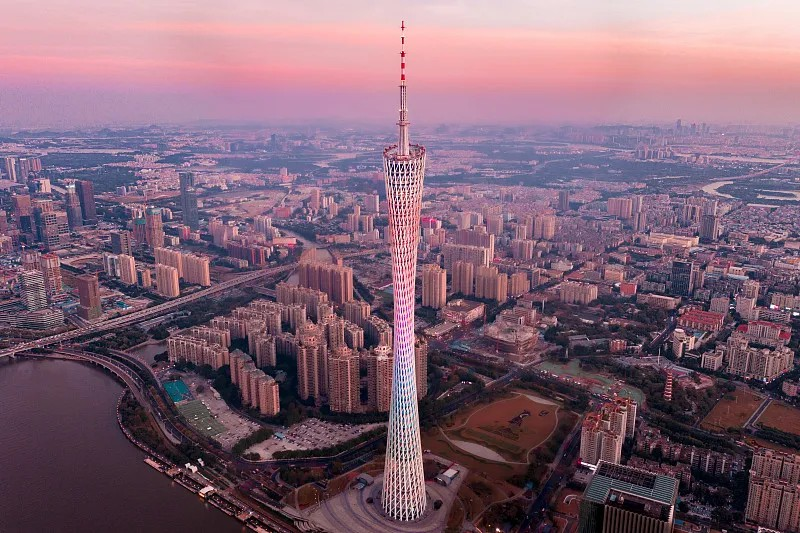Canton: (380, 22, 429, 521)
